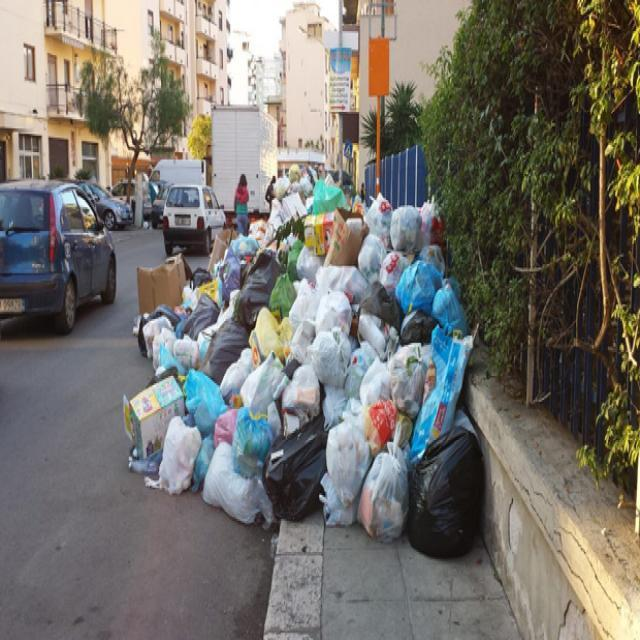Trashbag: (415, 434, 480, 558), (262, 427, 336, 514), (236, 253, 281, 329), (200, 322, 247, 389), (185, 296, 220, 338), (396, 313, 439, 345), (364, 290, 401, 319)
